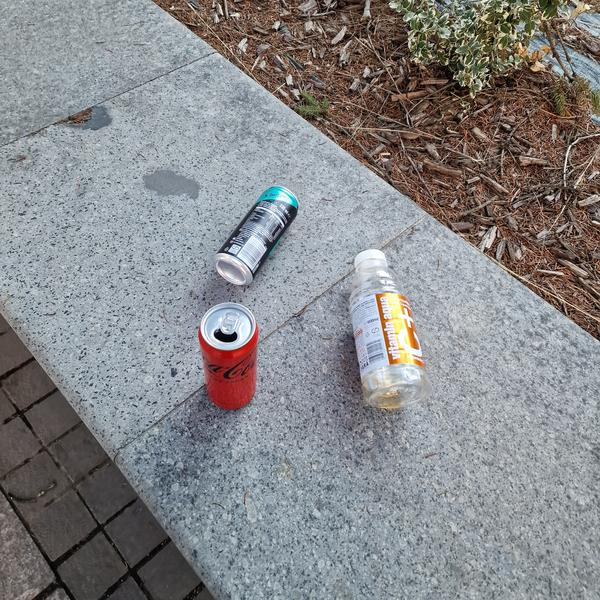can: (207, 176, 307, 293), (197, 300, 260, 413)
plastic_bottle: (340, 244, 431, 416)
